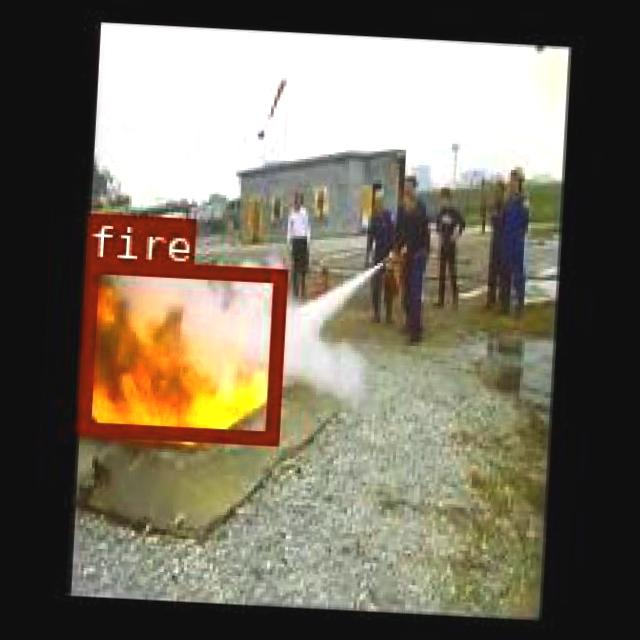fire: (74, 258, 285, 443)
